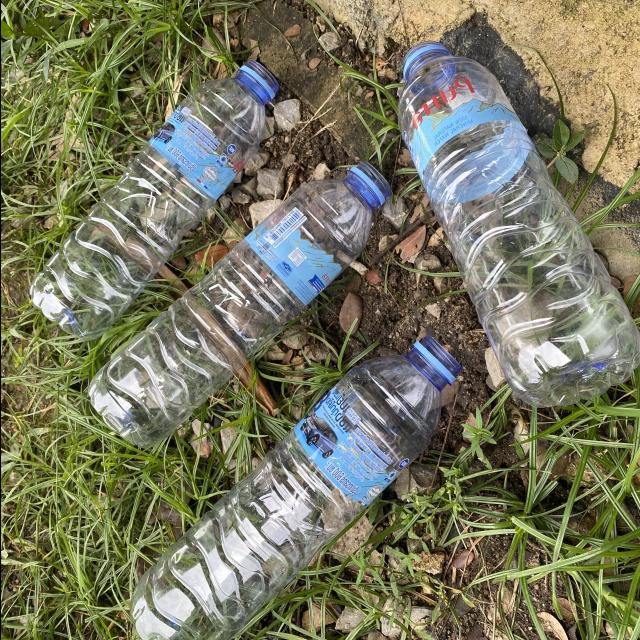plastik: (130, 337, 459, 640), (398, 43, 639, 407), (88, 161, 390, 446), (30, 61, 278, 339)
